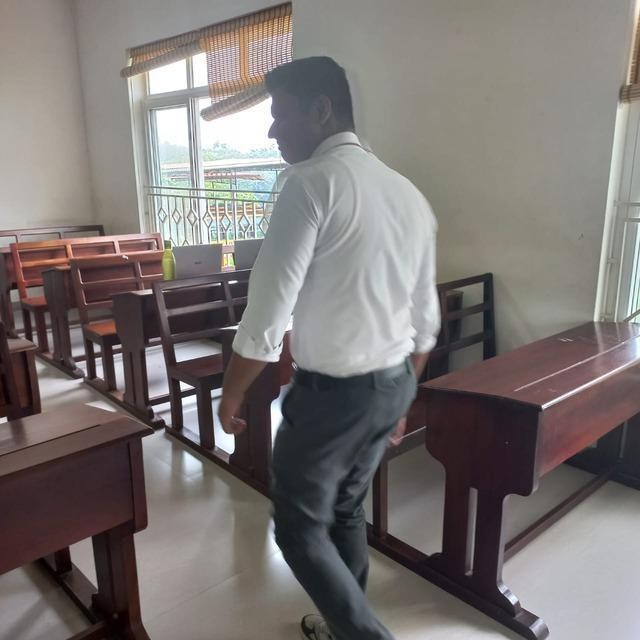bare_hand: (217, 395, 251, 440), (394, 418, 407, 448)
